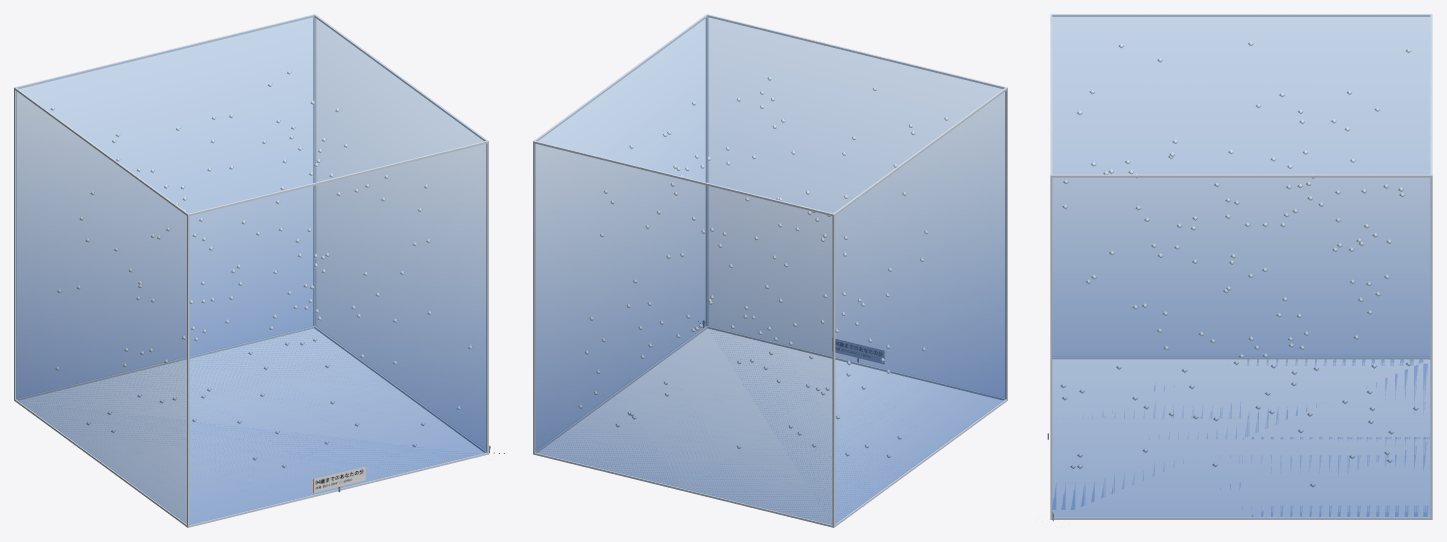
File: cube_life_94.glb
3 renders of one model, left to right at view 1: azimuth 30°, elevation 25°; view 2: azimuth 150°, elevation 25°; view 3: azimuth 270°, elevation 25°, orthographic. The views are drawn at different scales.
Visible parts, largest first — view 1: co2, edge, dots, label; view 2: co2, edge, dots, label; view 3: co2, edge, dots.
Part boxes in pixels (x1,y1,x2,y2): co2: (16, 15, 486, 524); edge: (14, 14, 488, 527); dots: (50, 70, 472, 468); label: (313, 466, 365, 492); co2: (535, 15, 1005, 524); edge: (533, 14, 1007, 527); dots: (578, 76, 948, 458); label: (835, 339, 884, 363); co2: (1051, 15, 1430, 517); edge: (1050, 14, 1432, 519); dots: (1060, 41, 1418, 487).
Bounding box in the file's own units: 71.74 × 67.97 × 70.84.
Materials: 8 (3 with a texture image).
